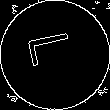L_E: (27, 35, 83, 75)
